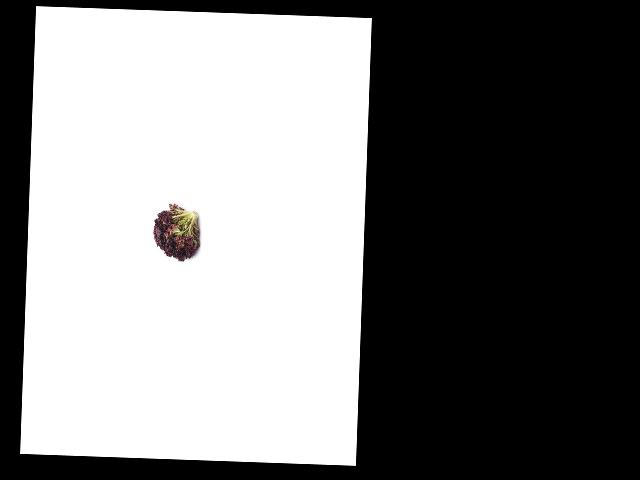lettuce: (150, 206, 204, 264)
